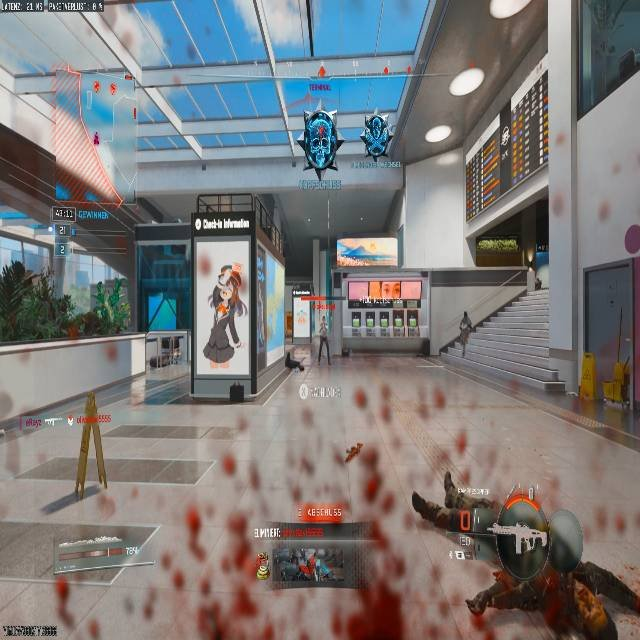head: (489, 500, 550, 579), (545, 510, 586, 569), (218, 263, 232, 280)
player: (466, 500, 637, 639), (208, 264, 245, 349), (361, 112, 391, 161)
